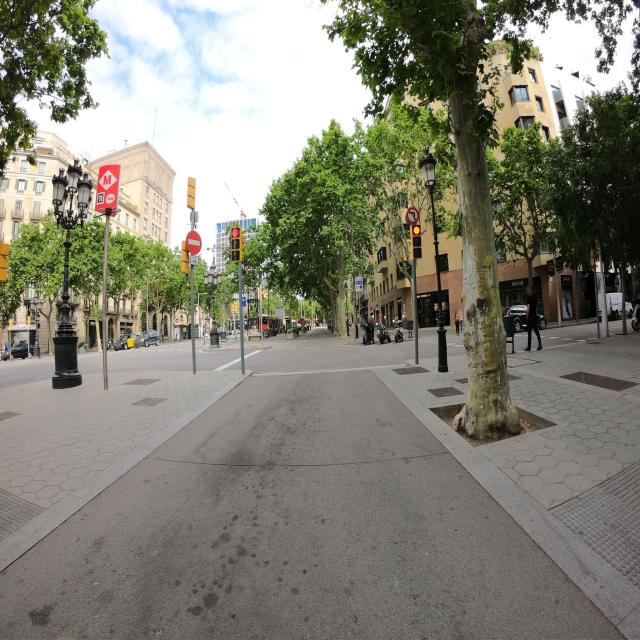forb_stopping: (37, 323, 41, 329)
